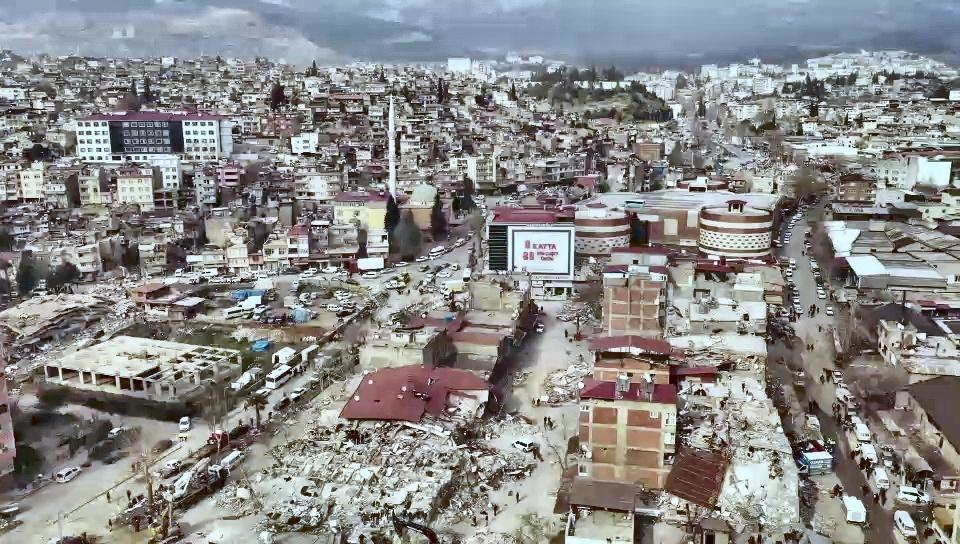kapali: (487, 334, 598, 426)
